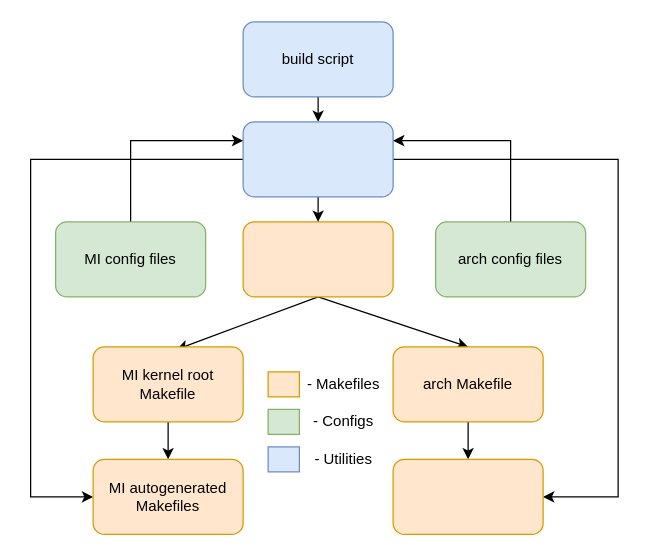
Some shapes in this 650 by 556 pixel diagram are drawn without their labels. The shapes that lost their labels are listed below. From the top down, each one's box as (x1, y1, x2, y2) in pixels, then its label:
(242, 121, 393, 197): autoconf
(242, 221, 393, 297): root makefile
(392, 458, 543, 534): arch autogenerated Мakefile
